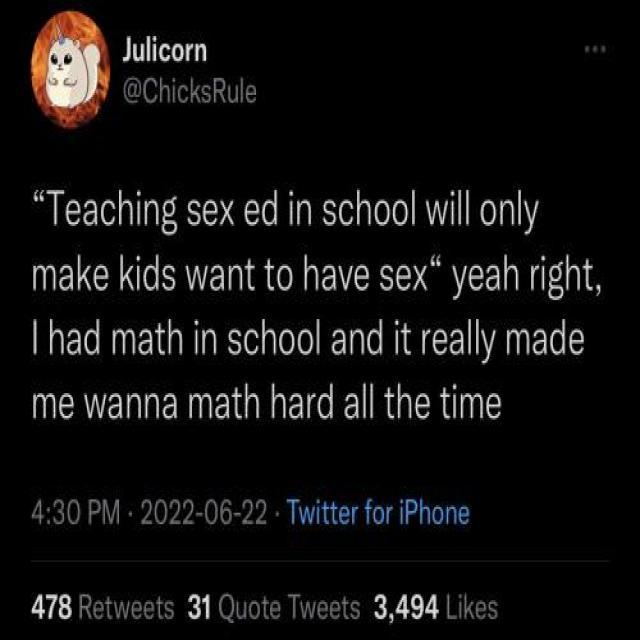0: (396, 592, 409, 622), (32, 594, 46, 621), (426, 594, 440, 621), (32, 499, 44, 526)
2: (220, 498, 232, 526)
3: (45, 594, 57, 620)
4: (59, 592, 72, 620)
5: (411, 592, 424, 620)
A: (213, 392, 230, 419), (66, 328, 82, 356), (138, 328, 154, 356), (532, 328, 548, 356), (83, 199, 99, 226), (486, 264, 502, 291), (108, 392, 124, 419), (288, 393, 304, 420), (59, 264, 74, 292), (344, 392, 359, 419), (332, 328, 346, 356), (450, 328, 464, 356), (210, 264, 224, 291), (322, 264, 336, 291), (164, 392, 178, 419)
C: (243, 328, 260, 356), (144, 76, 158, 105), (339, 198, 353, 226), (102, 200, 116, 227), (176, 85, 188, 104), (158, 44, 172, 60)
D: (262, 189, 278, 227), (144, 254, 160, 292), (367, 318, 383, 356), (84, 319, 100, 355), (318, 384, 334, 418), (550, 319, 564, 355)
E: (394, 264, 412, 292), (353, 264, 370, 292), (568, 328, 585, 356), (243, 199, 260, 226), (58, 393, 75, 420), (468, 264, 484, 292), (66, 199, 82, 226), (93, 264, 109, 291), (486, 393, 502, 420), (433, 328, 448, 356), (203, 199, 218, 226), (416, 392, 430, 419), (268, 598, 282, 621), (458, 503, 471, 526), (316, 598, 329, 621), (328, 598, 341, 621), (142, 599, 156, 620), (245, 84, 258, 105), (339, 505, 351, 526), (130, 600, 142, 621), (474, 599, 486, 620), (92, 600, 105, 619)
F: (365, 498, 372, 524)
G: (162, 196, 178, 236), (548, 260, 564, 300)
H: (566, 252, 582, 290), (504, 256, 520, 292), (49, 319, 65, 355), (357, 187, 371, 227), (304, 253, 318, 290), (169, 318, 183, 354), (262, 320, 276, 356), (398, 382, 412, 418), (246, 384, 260, 419), (272, 383, 286, 418), (119, 190, 132, 226), (160, 76, 172, 104), (420, 498, 430, 524)
I: (32, 319, 38, 353), (194, 318, 199, 354), (452, 383, 457, 418), (136, 190, 140, 224), (290, 190, 294, 224), (450, 191, 454, 225), (136, 254, 140, 288), (395, 320, 399, 354), (153, 36, 157, 63), (458, 594, 462, 620), (541, 256, 544, 290), (172, 78, 176, 102), (317, 498, 320, 524), (401, 498, 404, 524)
J: (124, 37, 132, 62)
K: (77, 253, 91, 290), (120, 254, 134, 290), (190, 76, 202, 104), (464, 592, 474, 620)
L: (446, 594, 458, 620), (464, 190, 470, 224), (517, 189, 522, 225), (316, 317, 320, 355), (362, 382, 366, 419), (412, 189, 416, 225), (468, 319, 472, 355), (369, 383, 373, 418), (458, 191, 462, 225), (476, 320, 480, 354), (147, 36, 151, 61), (241, 76, 244, 103)
M: (506, 328, 530, 356), (112, 329, 136, 356), (34, 392, 56, 419), (190, 392, 212, 419), (461, 393, 484, 418), (32, 266, 55, 290), (102, 498, 121, 526)
N: (296, 199, 312, 226), (126, 393, 142, 420), (144, 392, 160, 419), (229, 264, 243, 292), (202, 328, 216, 356), (351, 328, 365, 356), (144, 199, 158, 226), (500, 200, 514, 225), (195, 42, 208, 62), (446, 505, 456, 526)
O: (276, 264, 294, 292), (480, 199, 498, 226), (297, 328, 314, 356), (392, 198, 408, 227), (374, 199, 390, 226), (280, 330, 294, 354), (171, 42, 185, 62), (373, 505, 385, 526), (432, 505, 444, 526), (248, 600, 260, 619)
P: (405, 498, 418, 526), (88, 499, 101, 526)
Q: (218, 593, 236, 624)
R: (214, 76, 226, 104), (80, 592, 92, 620), (307, 392, 316, 419), (531, 264, 539, 291), (422, 330, 431, 354), (386, 505, 394, 526), (351, 505, 359, 524), (185, 44, 194, 60)
S: (322, 198, 337, 227), (162, 263, 176, 292), (380, 264, 394, 292), (228, 328, 242, 356), (187, 198, 200, 226), (350, 600, 362, 621), (163, 599, 174, 620), (201, 84, 211, 105), (488, 599, 498, 620)
T: (46, 189, 64, 227), (232, 387, 244, 420), (384, 388, 396, 419), (286, 498, 300, 524), (288, 592, 301, 620), (245, 259, 255, 292), (264, 259, 274, 292), (582, 258, 592, 291), (440, 387, 450, 420), (156, 323, 165, 357), (402, 324, 411, 356), (260, 596, 270, 621), (155, 595, 164, 620), (105, 596, 114, 619), (342, 596, 350, 621), (330, 502, 338, 525), (322, 502, 330, 524)
U: (133, 44, 145, 62), (227, 86, 239, 102), (236, 601, 246, 618)
V: (338, 264, 354, 291)
W: (185, 266, 208, 292), (426, 200, 448, 227), (84, 394, 108, 417), (114, 600, 130, 621), (300, 600, 316, 619), (298, 506, 315, 523)
X: (220, 199, 234, 226), (413, 265, 428, 290)
Y: (524, 200, 540, 234), (481, 329, 496, 364), (453, 264, 467, 300)
